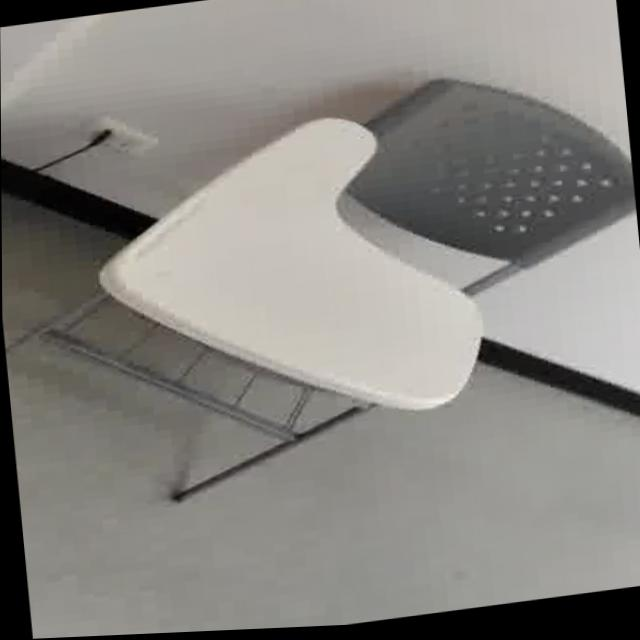chair: (0, 31, 640, 542)
